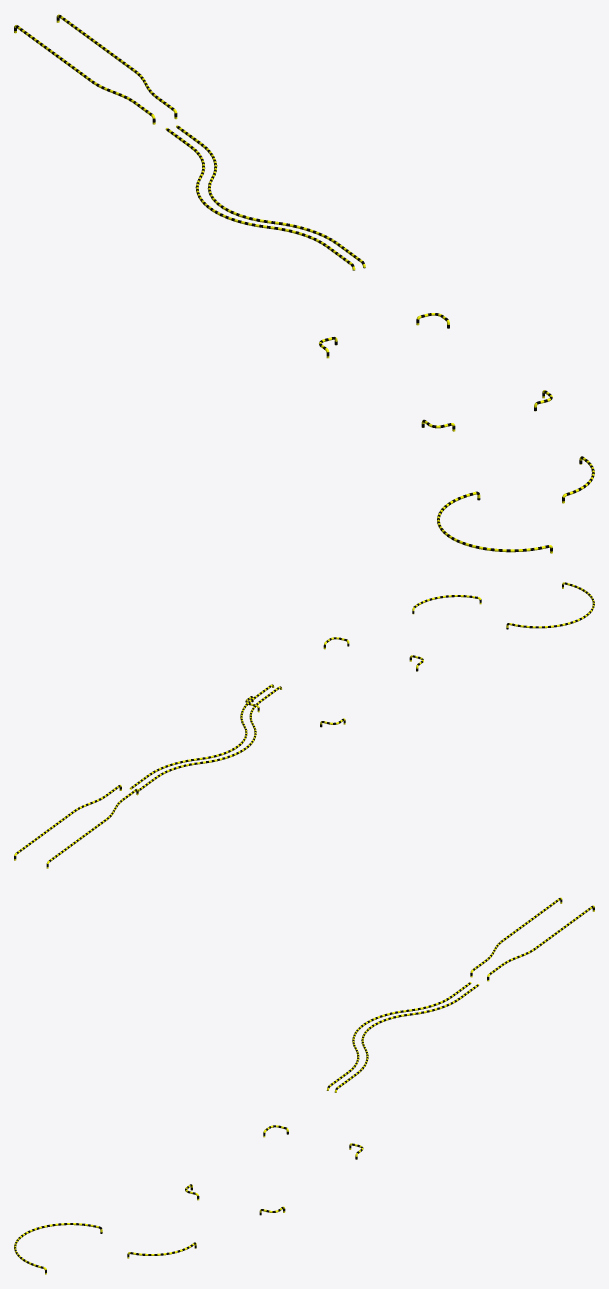
File: rod_13.FBX
3 views of the same model, one above another, from view 1: azimuth 30°, elevation 25°; view 2: azimuth 150°, elevation 25°; view 3: azimuth 330°, elevation 25° (orthographic). The views are drawn at different scales.
Parts seen in each view (by area): view 1: rod_13; view 2: rod_13; view 3: rod_13.
Boxes of the visible parts, x1,y1,x2,y2 form: rod_13: (14,14,594,553); rod_13: (14,582,594,868); rod_13: (14,897,594,1274).
Bounding box in the file's own units: 2571 × 755 × 12187.
